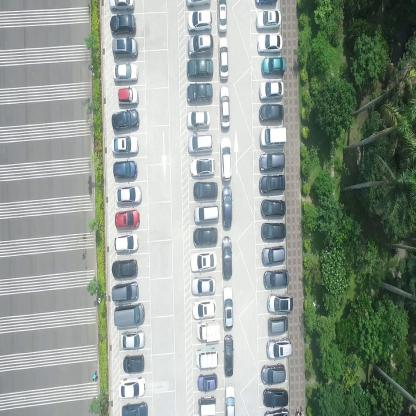car: (113, 302, 146, 328), (111, 107, 139, 132), (118, 375, 146, 399), (188, 33, 214, 58), (112, 36, 138, 60), (186, 9, 212, 33), (266, 336, 292, 360), (190, 250, 218, 272), (259, 126, 287, 148), (255, 8, 281, 31), (111, 257, 138, 279), (258, 151, 285, 173), (111, 280, 139, 301), (196, 319, 220, 343), (220, 135, 232, 183), (110, 13, 135, 36), (112, 61, 138, 83), (114, 208, 140, 230), (193, 202, 219, 224), (191, 298, 217, 320), (257, 33, 283, 55), (258, 79, 284, 101), (267, 291, 293, 313), (115, 184, 142, 205), (189, 156, 216, 177), (259, 173, 286, 194), (219, 83, 231, 130), (111, 134, 139, 154), (186, 59, 214, 79), (221, 234, 233, 280), (114, 231, 139, 253), (260, 362, 285, 384), (186, 82, 212, 103), (187, 133, 213, 154), (190, 275, 216, 296), (263, 268, 289, 289), (260, 198, 287, 218), (195, 346, 219, 368), (222, 285, 234, 329), (261, 55, 285, 77), (261, 244, 285, 266), (120, 329, 145, 350), (263, 387, 288, 408), (192, 180, 218, 200), (192, 226, 218, 246), (258, 103, 284, 123), (122, 352, 145, 374), (186, 109, 210, 130), (218, 36, 229, 81), (260, 221, 286, 240), (221, 185, 232, 229), (113, 160, 137, 180), (117, 86, 139, 107), (197, 371, 218, 393), (267, 315, 289, 336), (121, 400, 149, 416), (197, 394, 217, 415), (216, 0, 228, 35), (224, 332, 233, 376), (224, 382, 236, 415), (108, 0, 134, 12), (186, 0, 211, 8), (254, 0, 278, 7)
